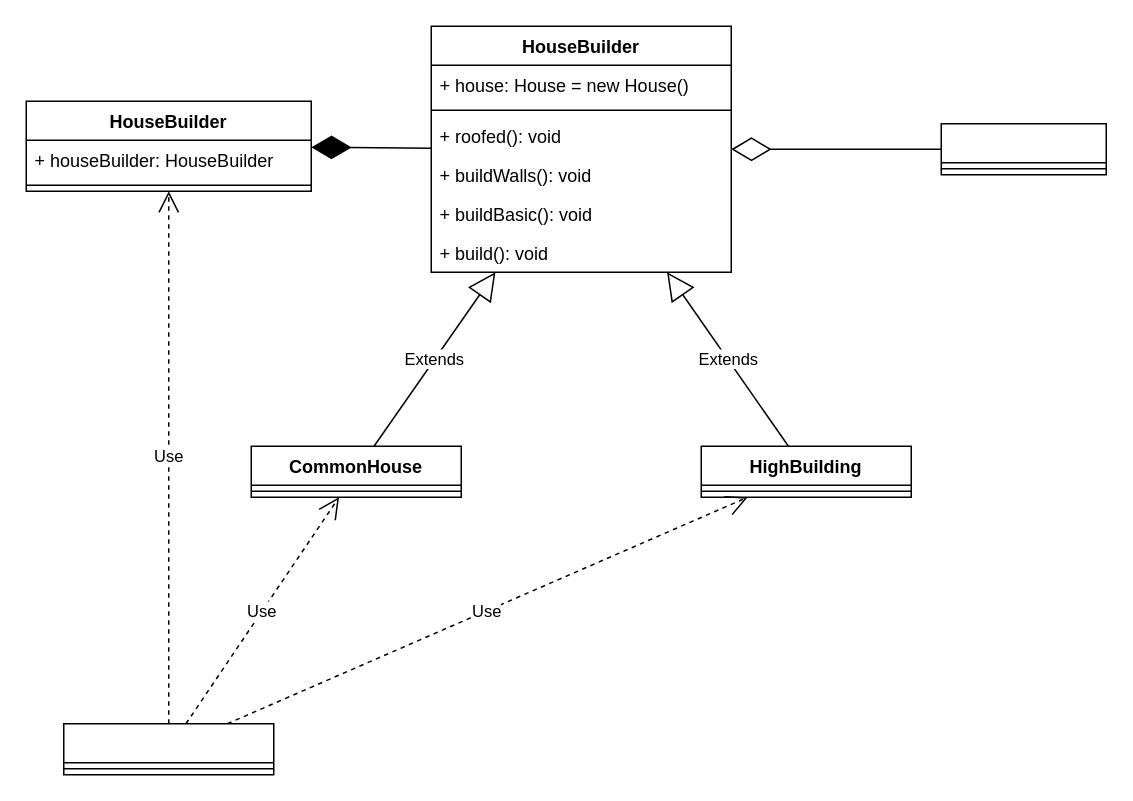
Some shapes in this 1133 by 801 pixel diagram are drawn without their labels. The shapes that lost their labels are listed below. From the top down, each one's centre as x and y in pixels, then its label:
At [1023,148]: "House".
At [168,748]: "Client".
